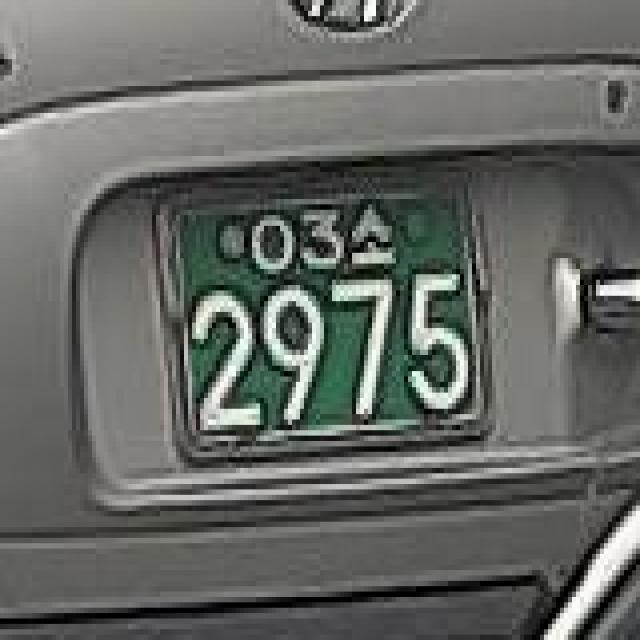illegal_plate: (150, 153, 503, 475)
